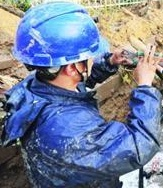boots: (142, 109, 163, 138)
gloves: (145, 33, 163, 57), (152, 48, 163, 63)
hard-hat: (11, 1, 102, 68)
ppe-suit: (0, 70, 163, 186)
